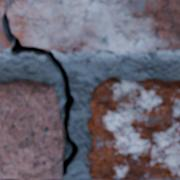brick: (87, 78, 179, 179), (0, 80, 63, 179)
broken_brick: (0, 0, 179, 54), (0, 22, 8, 50)
crack: (0, 2, 80, 177), (154, 45, 159, 51), (0, 178, 23, 179)
